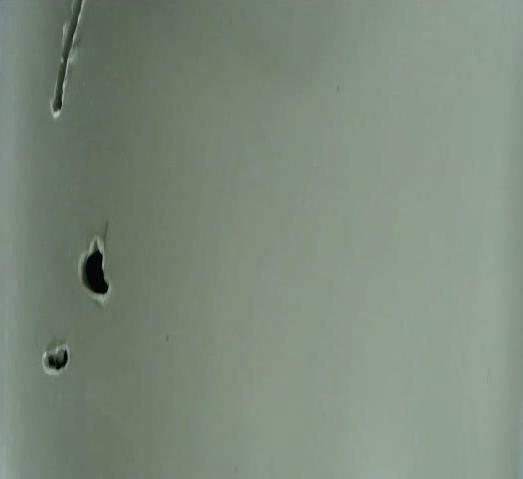fengxi: (37, 1, 103, 127)
kongdong: (72, 232, 115, 310), (36, 341, 77, 379)
